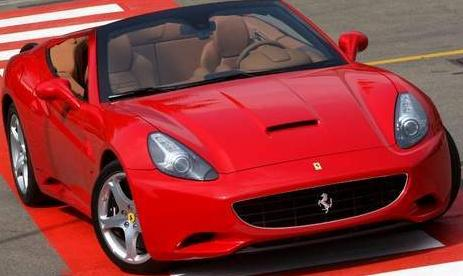front_view: (138, 98, 446, 252)
headlight: (141, 130, 228, 191)
side_glass: (31, 32, 105, 118)
